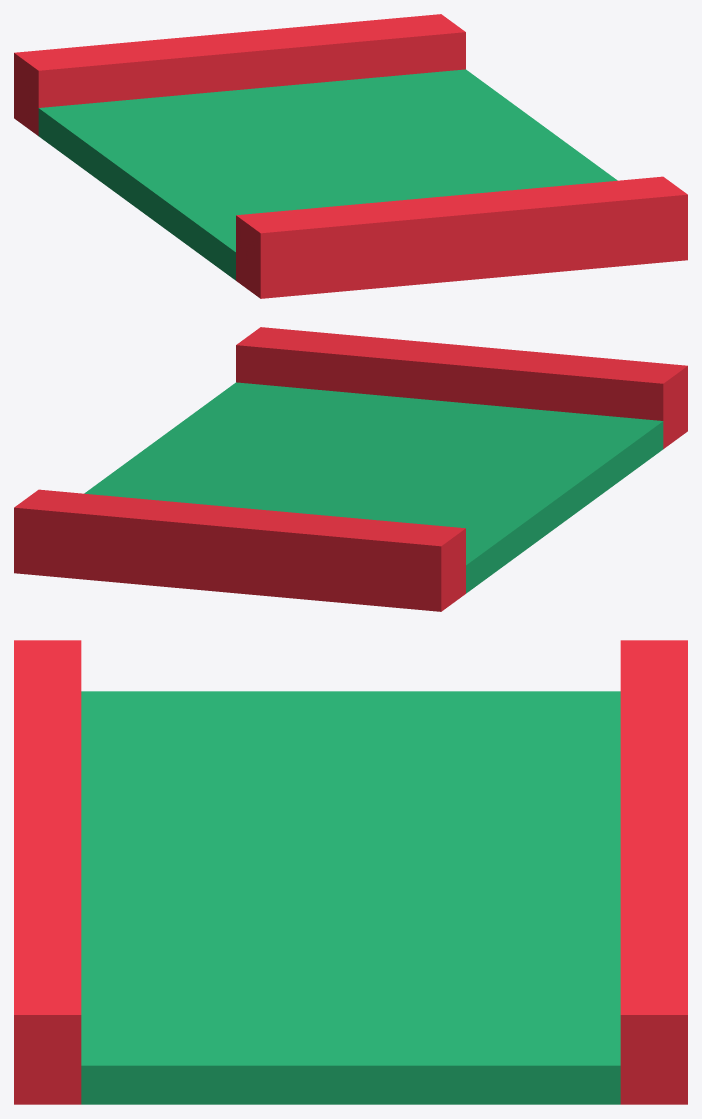
File: rampA.dae
The picture shows the model from 3 angles, top to bottom: view 1: azimuth 30°, elevation 25°; view 2: azimuth 150°, elevation 25°; view 3: azimuth 270°, elevation 25°; orthographic projection. The views are drawn at different scales.
Visible parts, largest first — view 1: rampA; view 2: rampA; view 3: rampA.
Boxes of the visible parts, x1,y1,x2,y2 form: rampA: [14, 14, 687, 298]; rampA: [14, 327, 687, 611]; rampA: [14, 640, 687, 1104].
Bounding box in the file's own units: 0.9999 × 0.2933 × 0.9999.
